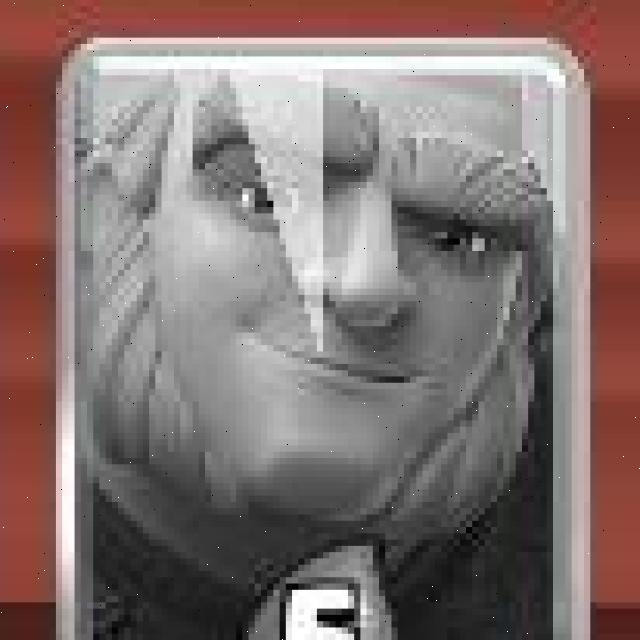Giant: (46, 29, 594, 640)
